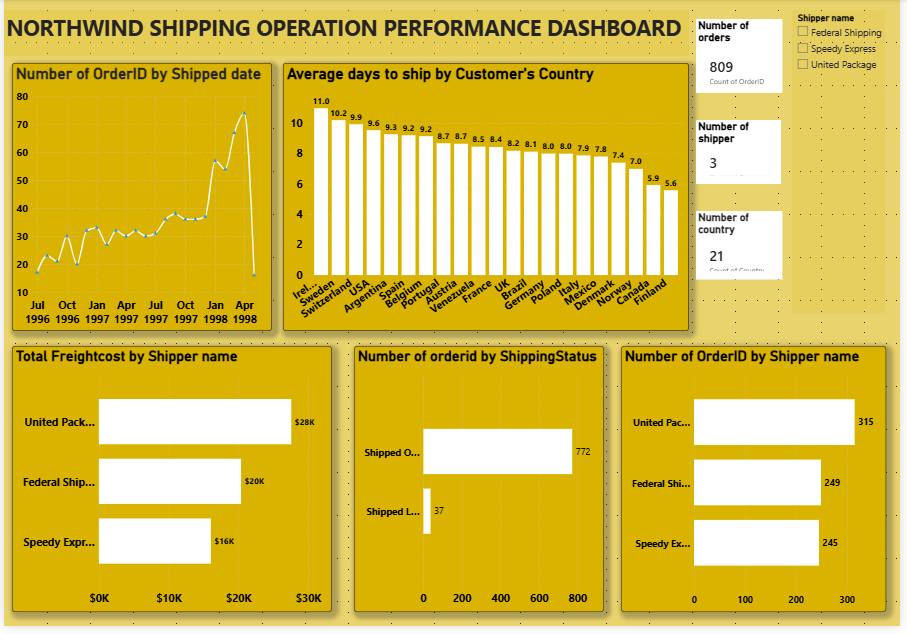

What the dashboard file says about the page in this screenshot:
{"tool":"powerbi","page":{"name":"NORTHWIND SHIPPING OPERATION PERFORMANCE DASHBOARD","canvas":[2000,1400],"ordinal":19},"visuals":[{"type":"barChart","title":"Number of OrderID by Shipper name","fields":{"Category":["Shippers.CompanyName"],"Y":["Count(Orders.OrderID)"]},"box":[1377.5,774.7,591.6,593.9],"z":0},{"type":"barChart","title":"Total Freightcost by Shipper name","fields":{"Category":["Shippers.CompanyName"],"Y":["Sum(Orders.Freightcost)"]},"box":[17.9,774.7,714.4,593.9],"z":1000},{"type":"lineChart","title":"Number of OrderID by Shipped date","fields":{"Category":["Orders.ShippedDate.Variation.Date Hierarchy.Year","Orders.ShippedDate.Variation.Date Hierarchy.Month"],"Y":["CountNonNull(Orders.OrderID)"]},"box":[17.9,142.9,580.5,598.3],"z":2000},{"type":"barChart","title":"Number of orderid by ShippingStatus","fields":{"Category":["Orders.Shipping statuse"],"Y":["Count(Orders.OrderID)"]},"box":[781.4,774.7,558.1,593.9],"z":3000},{"type":"columnChart","title":"Average days to ship by Customer''s Country","fields":{"Category":["Customers.Country"],"Y":["Avg(Orders.Days-To-Ship)"]},"box":[622.9,142.9,906.4,598.3],"z":4000},{"type":"slicer","fields":{"Values":["Shippers.CompanyName"]},"box":[1759.3,24.6,207.6,676.5],"z":5000},{"type":"cardVisual","title":"Number of orders","fields":{"Data":["CountNonNull(Orders.OrderID)"]},"box":[1545,45,192.5,165],"z":6000},{"type":"cardVisual","title":"Number of shipper","fields":{"Data":["Count(Shippers.CompanyName)"]},"box":[1545,270,190,142.5],"z":7000},{"type":"cardVisual","title":"Number of country","fields":{"Data":["Count(Customers.Country)"]},"box":[1545,472.5,192.5,152.5],"z":8000},{"type":"textbox","box":[0,24.6,1529.3,102.7],"z":9000}]}

Visuals, with their boxes in screenshot pixels (x1, y1, x2, y2), scaled from the page's 2000x1400 canvas onto the 907x634 screenshot:
"Number of OrderID by Shipper name" barChart: box(625, 351, 893, 620)
"Total Freightcost by Shipper name" barChart: box(8, 351, 332, 620)
"Number of OrderID by Shipped date" lineChart: box(8, 65, 271, 336)
"Number of orderid by ShippingStatus" barChart: box(354, 351, 607, 620)
"Average days to ship by Customer''s Country" columnChart: box(282, 65, 694, 336)
slicer - Shippers.CompanyName: box(798, 11, 892, 317)
"Number of orders" cardVisual: box(701, 20, 788, 95)
"Number of shipper" cardVisual: box(701, 122, 787, 187)
"Number of country" cardVisual: box(701, 214, 788, 283)
textbox: box(0, 11, 694, 58)
